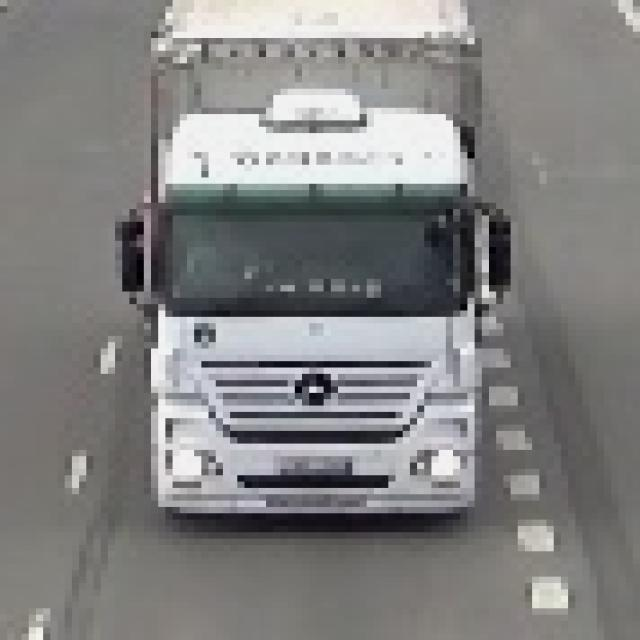TRUCK: (118, 0, 503, 525)
